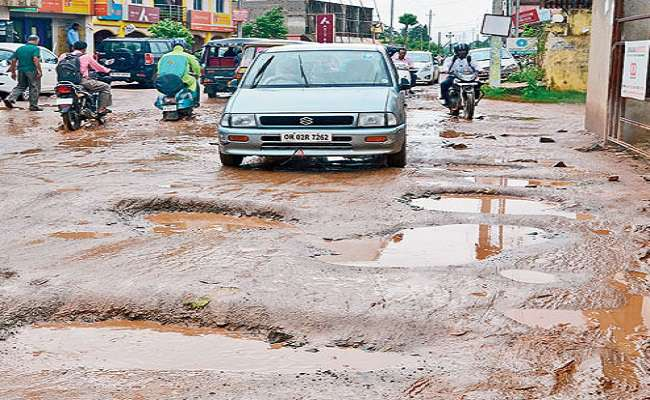pothole: (9, 293, 340, 399), (320, 216, 560, 269), (109, 188, 256, 246), (391, 170, 553, 216)
